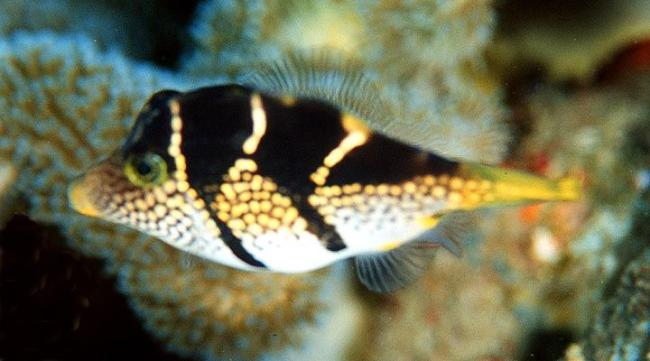fish: (66, 48, 580, 276)
